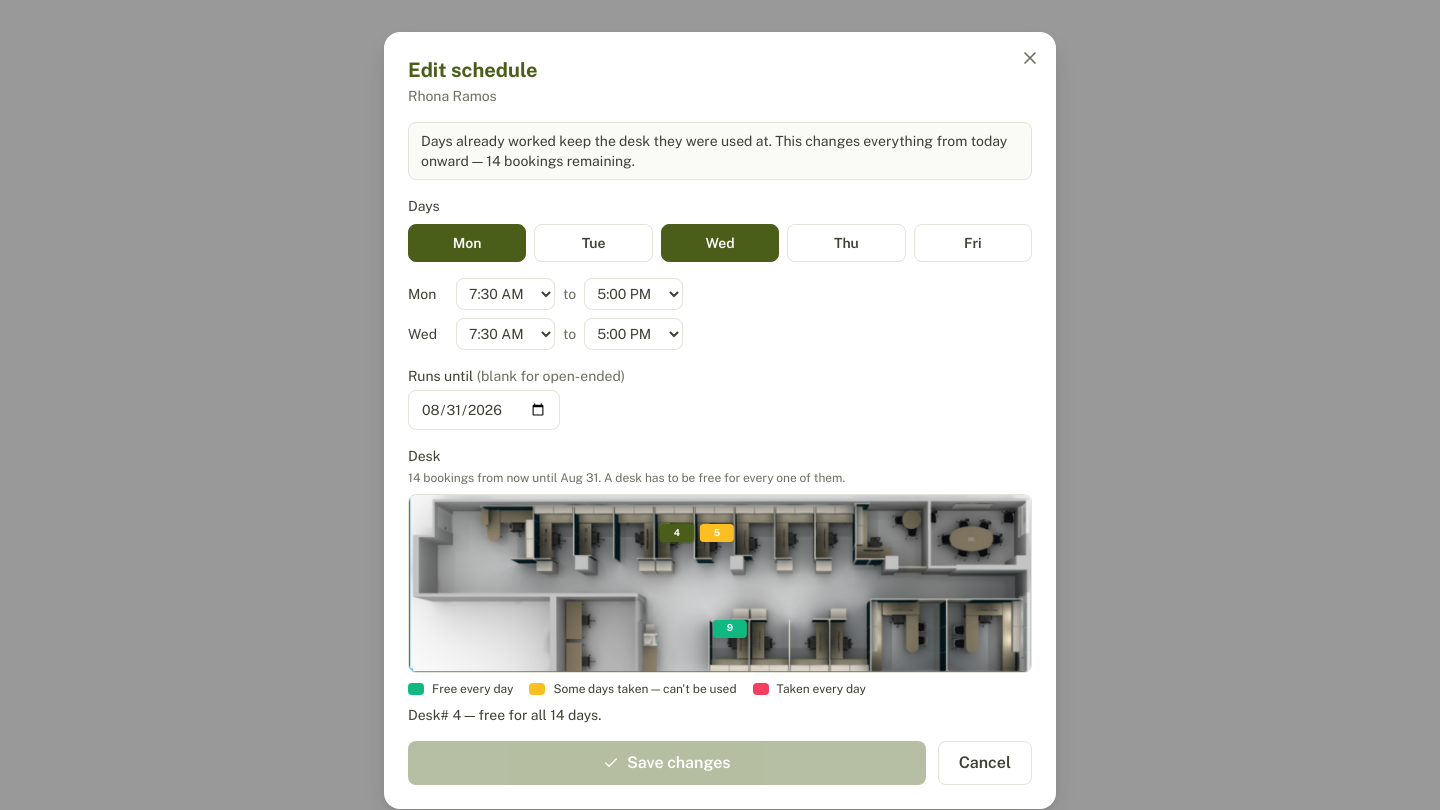
Test: toggling a weekday off and back on is not a change
Click the button "Mon" at (467, 243), box x1=408 y1=224 x2=526 y2=262
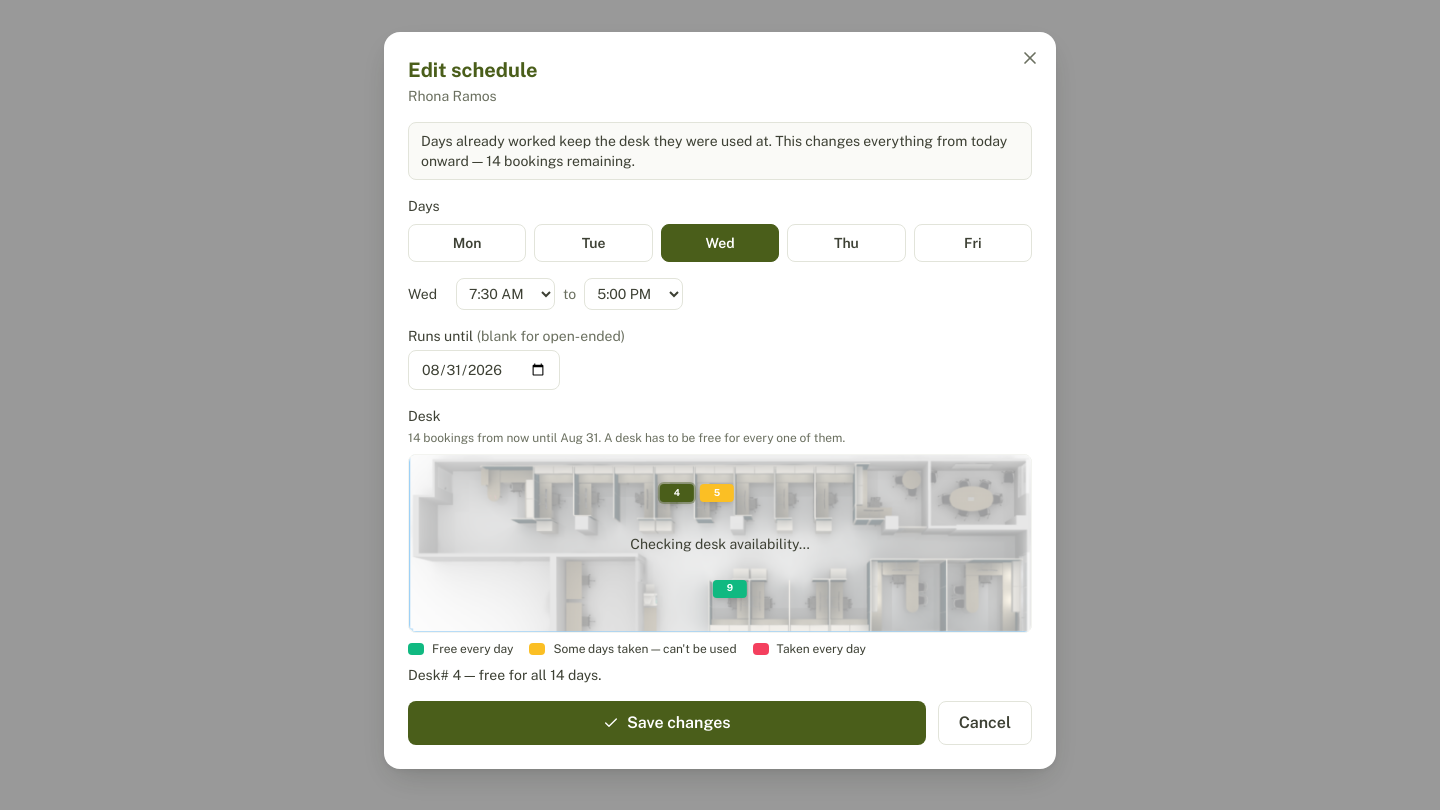
Click the button "Mon" at (467, 243), box x1=408 y1=224 x2=526 y2=262
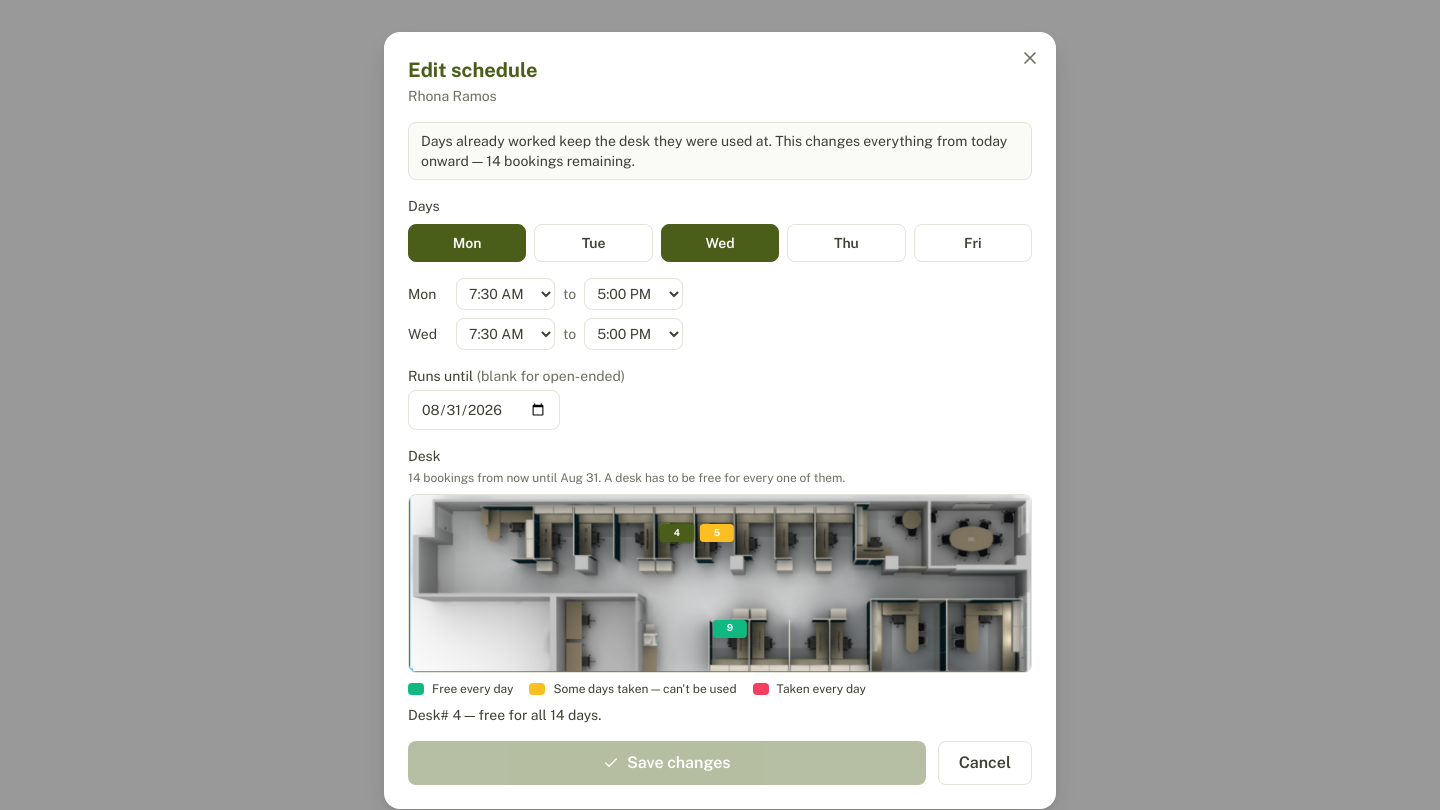
expect the button "Save changes" is disabled: met, box x1=408 y1=742 x2=926 y2=786
